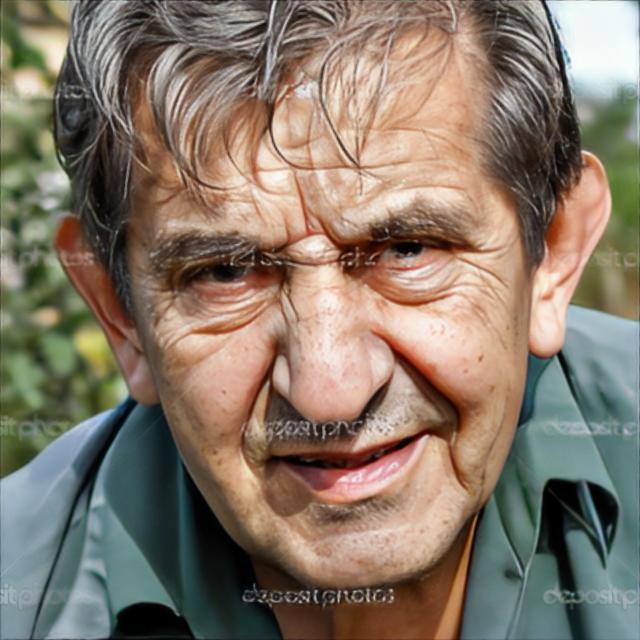disgust: (128, 7, 528, 592)
